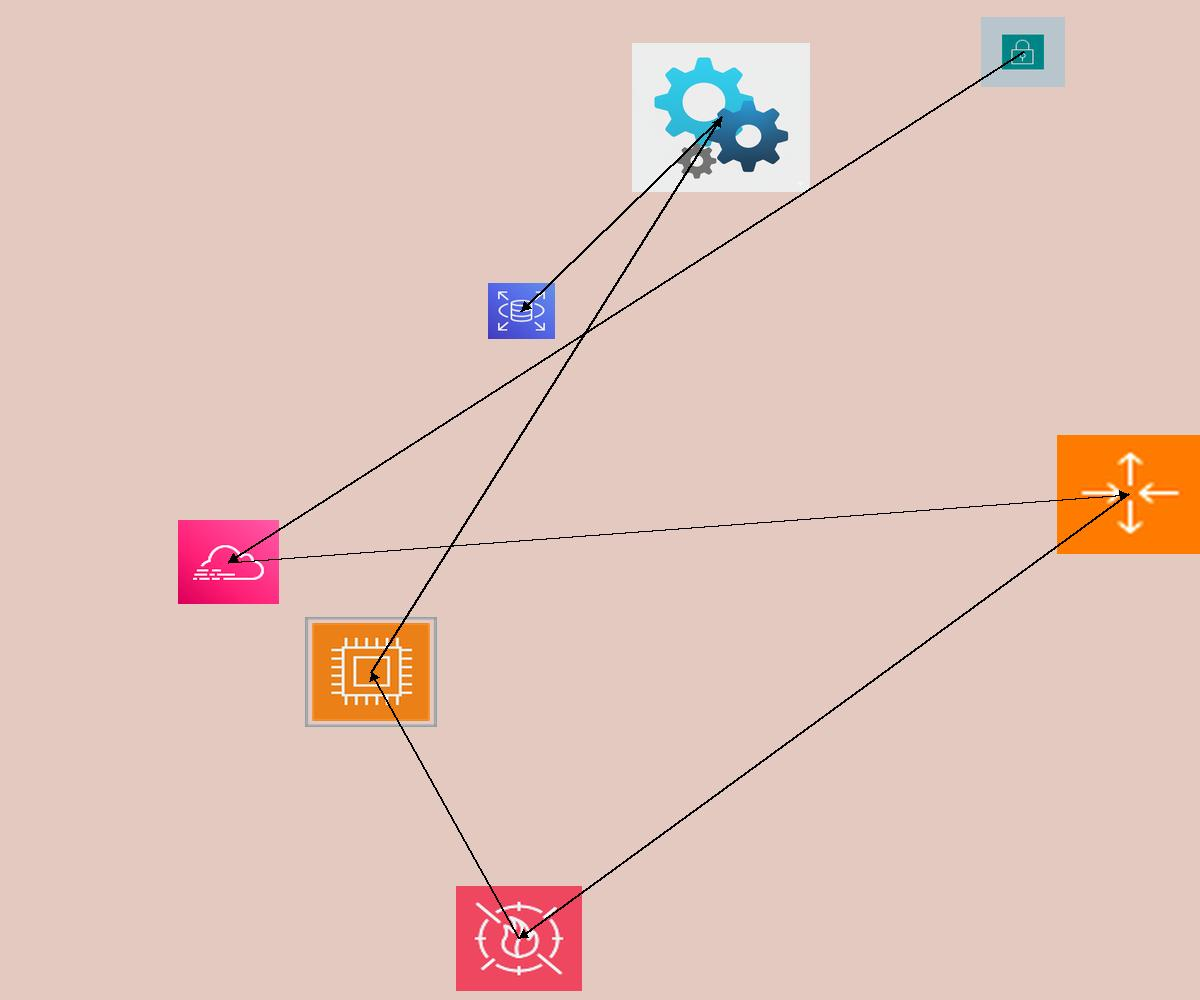AWS-Category_Compute: (305, 617, 437, 727)
AWS-CloudTrail: (178, 520, 279, 604)
AWS-Private-subnet: (981, 17, 1065, 87)
AWS-RDS: (488, 283, 555, 339)
AWS-Scaling-group: (1057, 435, 1200, 554)
AWS-WAF: (456, 886, 582, 991)
Azure_api: (632, 43, 810, 192)
